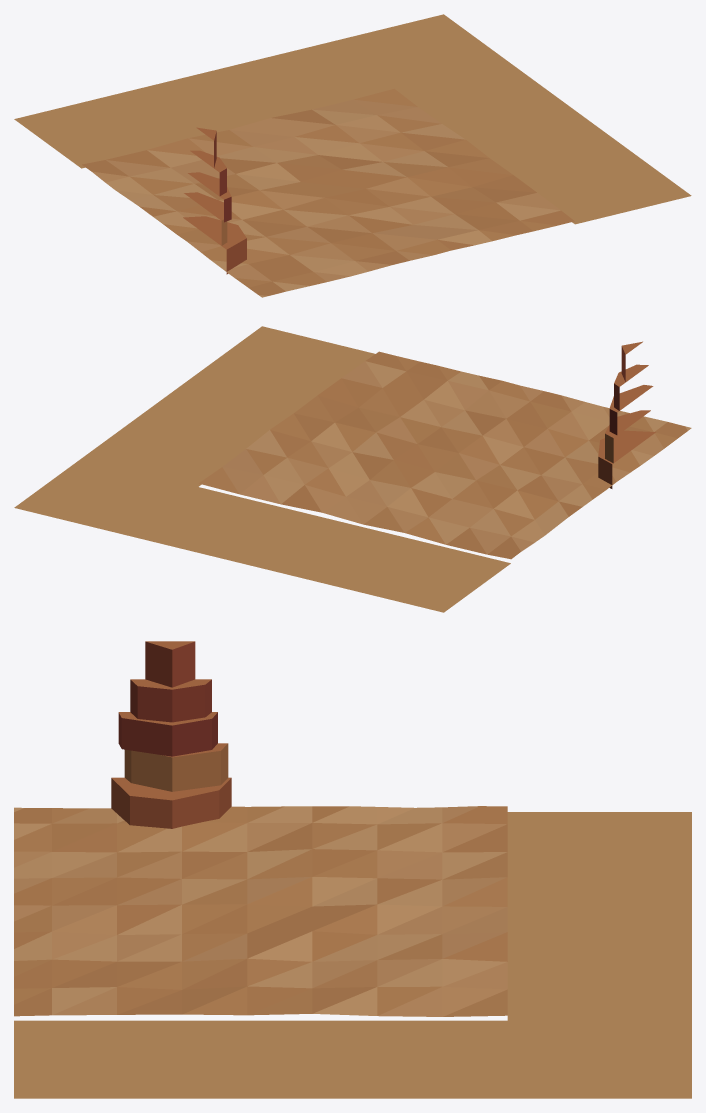
The picture shows the model from 3 angles, top to bottom: view 1: azimuth 30°, elevation 25°; view 2: azimuth 150°, elevation 25°; view 3: azimuth 270°, elevation 25°; orthographic projection. The views are drawn at different scales.
Parts seen in each view (by area): view 1: baked; view 2: baked; view 3: baked.
Boxes of the visible parts, bbox=[...] form: baked: bbox=[14, 14, 691, 297]; baked: bbox=[14, 326, 691, 612]; baked: bbox=[14, 641, 691, 1098].
Bounding box in the file's own units: 125 × 34.68 × 125.
